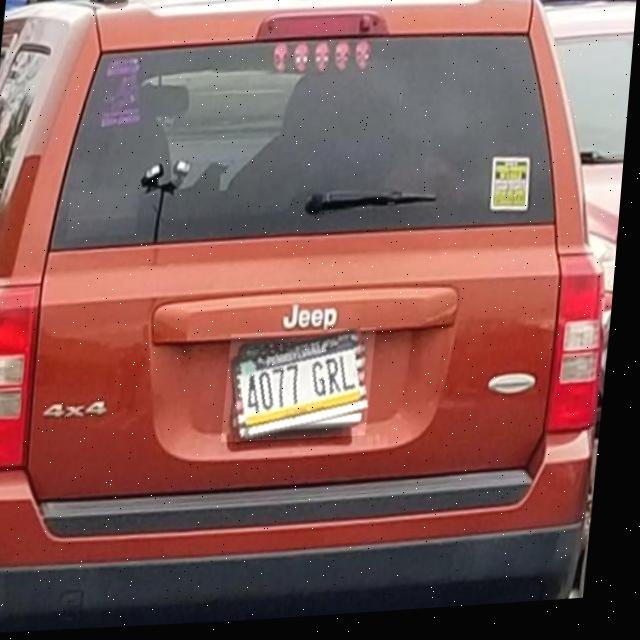LicensePlate: (235, 334, 375, 445)
